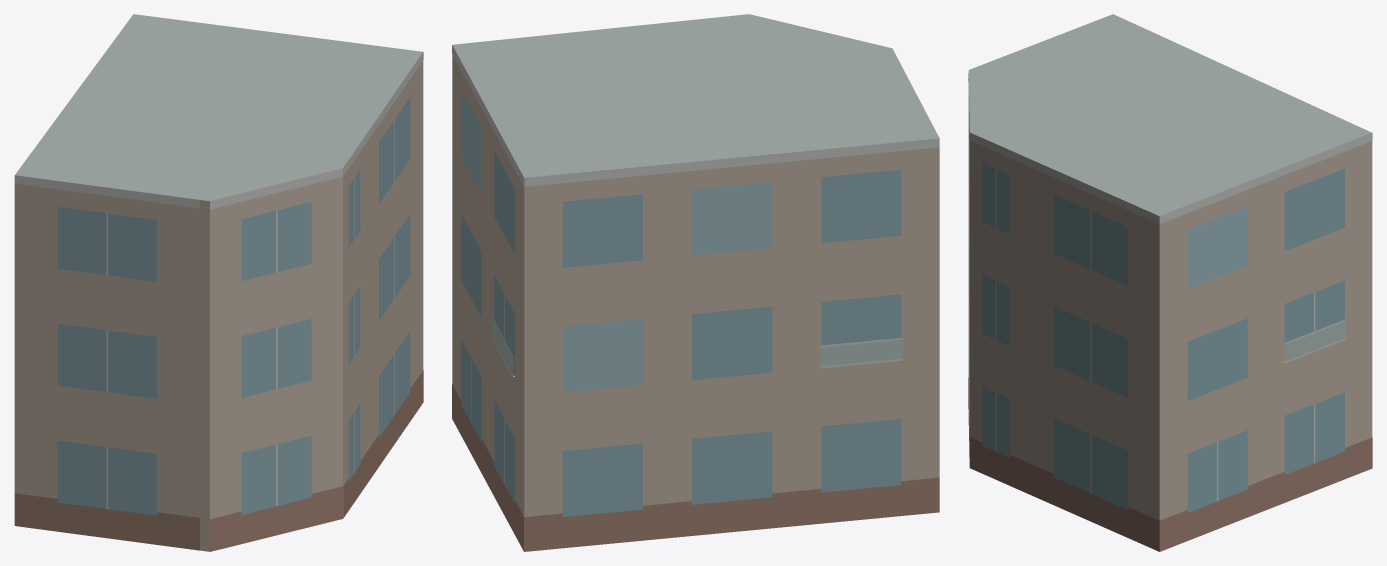
The model's file is survey-upis-32992232.glb.
3 renders of one model, left to right at view 1: azimuth 30°, elevation 25°; view 2: azimuth 150°, elevation 25°; view 3: azimuth 270°, elevation 25°, orthographic. The views are drawn at different scales.
Parts seen in each view (by area): view 1: survey-upis-32992232.tmp; view 2: survey-upis-32992232.tmp; view 3: survey-upis-32992232.tmp.
Boxes of the visible parts, left/top/right/bottom form: survey-upis-32992232.tmp: left=14, top=14, right=423, bottom=551; survey-upis-32992232.tmp: left=452, top=14, right=939, bottom=551; survey-upis-32992232.tmp: left=968, top=14, right=1372, bottom=551.
Bounding box in the file's own units: 13.19 × 10.2 × 11.13.
